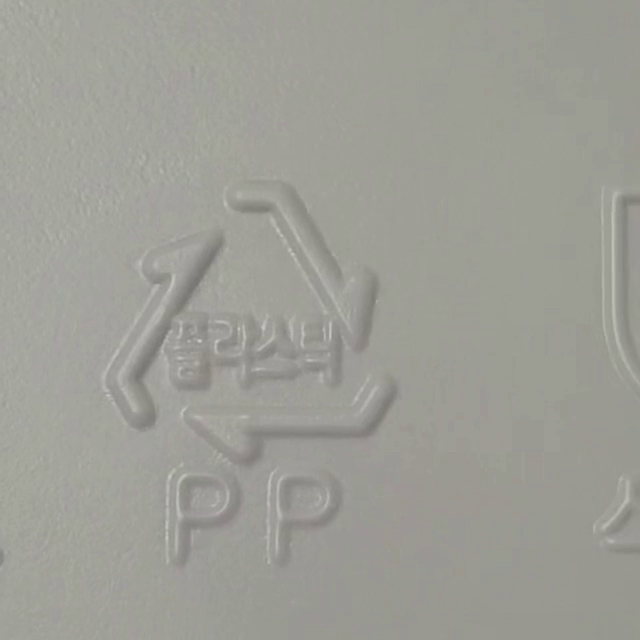Plastic: (107, 176, 398, 463)
